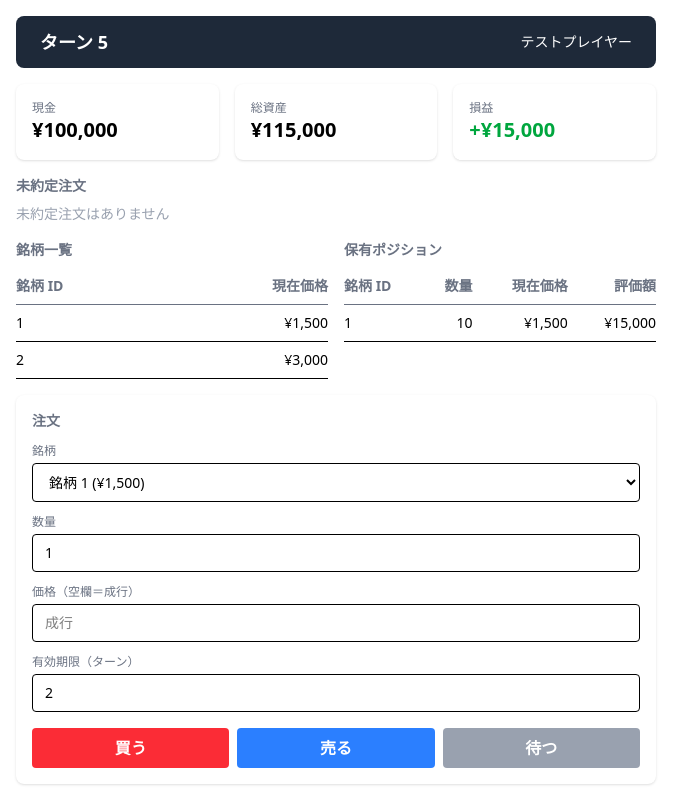
GamePage route › 「待つ」ボタンでactionが呼ばれる
Check: the heading "ターン 5" is shown, box [40,28,108,56]
Click the button "待つ": (541, 748) [443,728,640,768]
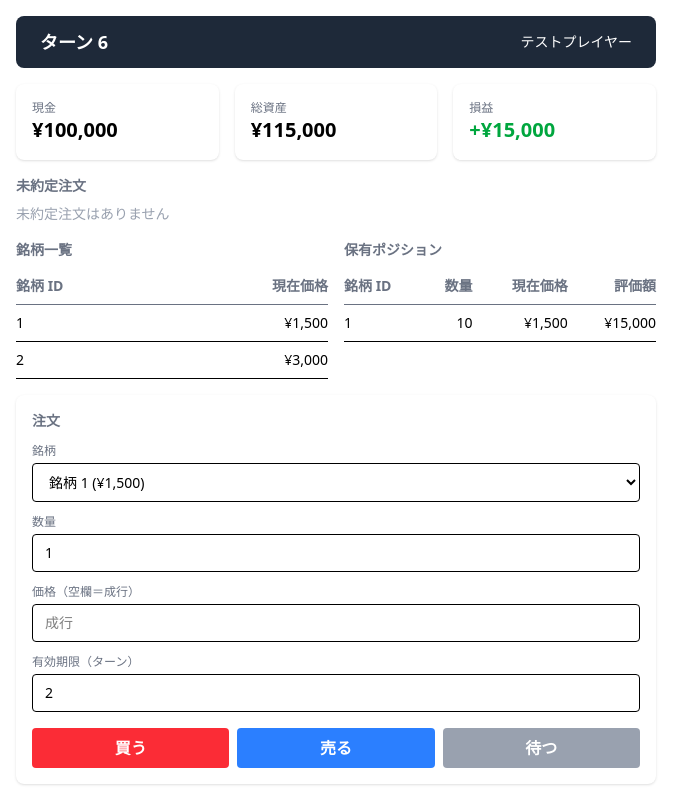
Check: the heading "ターン 6" is shown, box [40,28,108,56]
